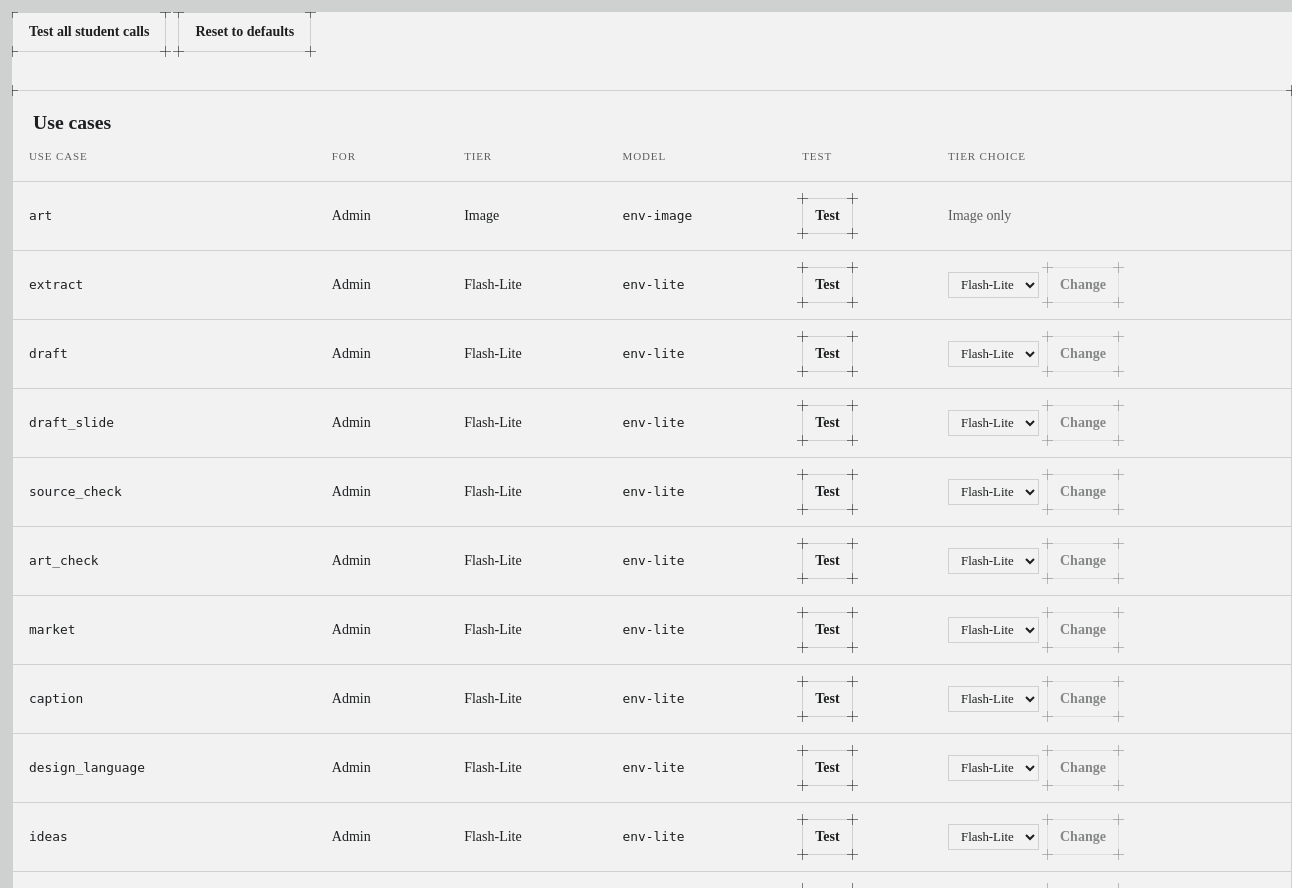
Test: runs one Test on a use case and shows its result line
The image size is (1292, 888).
Click the button "Test". click: (828, 285)
box: [802,267,853,303]
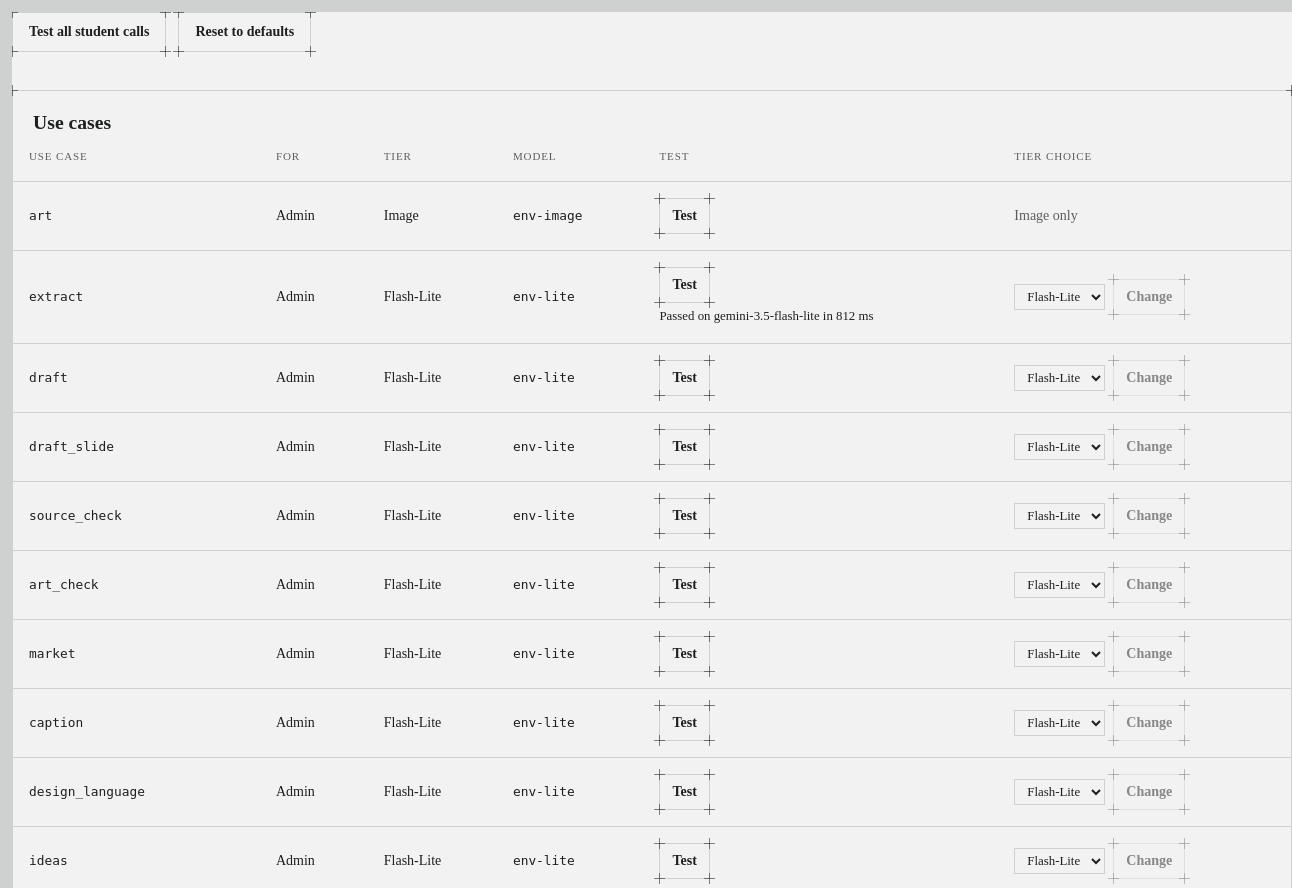
Expected: the cell "extract" is shown, [13,250,260,343]
Result: the row that starts with "extract" shows "Passed on gemini-3.5-flash-lite in 812 ms" at [660,309,874,323]
